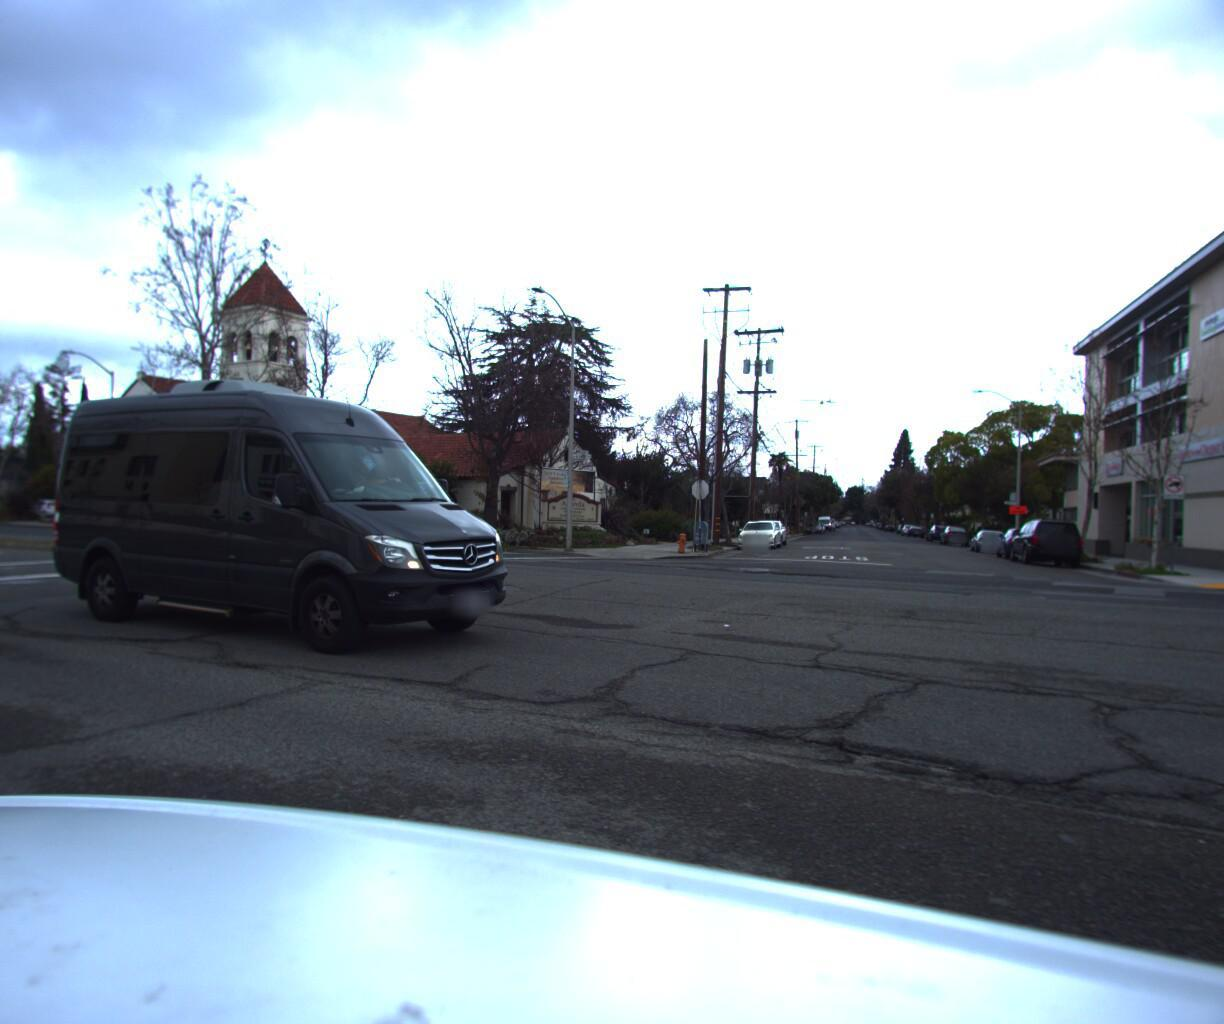car: (49, 342, 556, 674), (1003, 513, 1093, 563), (991, 520, 1053, 557), (734, 513, 786, 547), (969, 521, 1014, 549), (750, 514, 790, 543), (940, 521, 969, 541)
